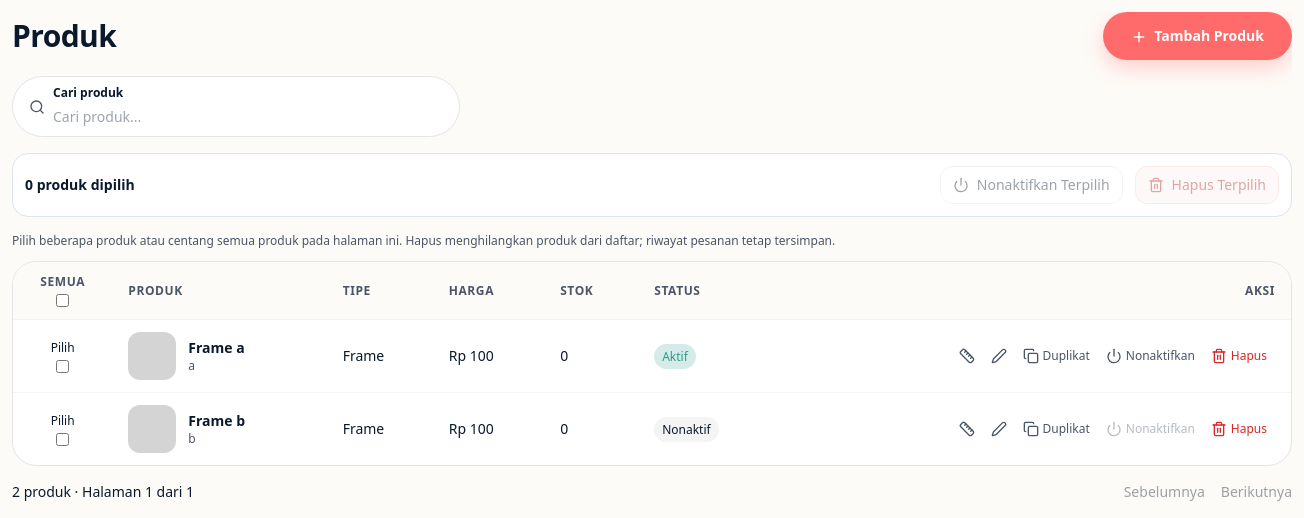
it: row actions distinguish deactivation from deletion, including inactive products
expect the button with test id "deactivate-b" is disabled: met, box left=1098, top=413, right=1203, bottom=445
expect the button with test id "delete-b" is enabled: met, box left=1203, top=413, right=1275, bottom=445
Click the button with test id "deactivate-a" at (1150, 356), box left=1098, top=340, right=1203, bottom=372
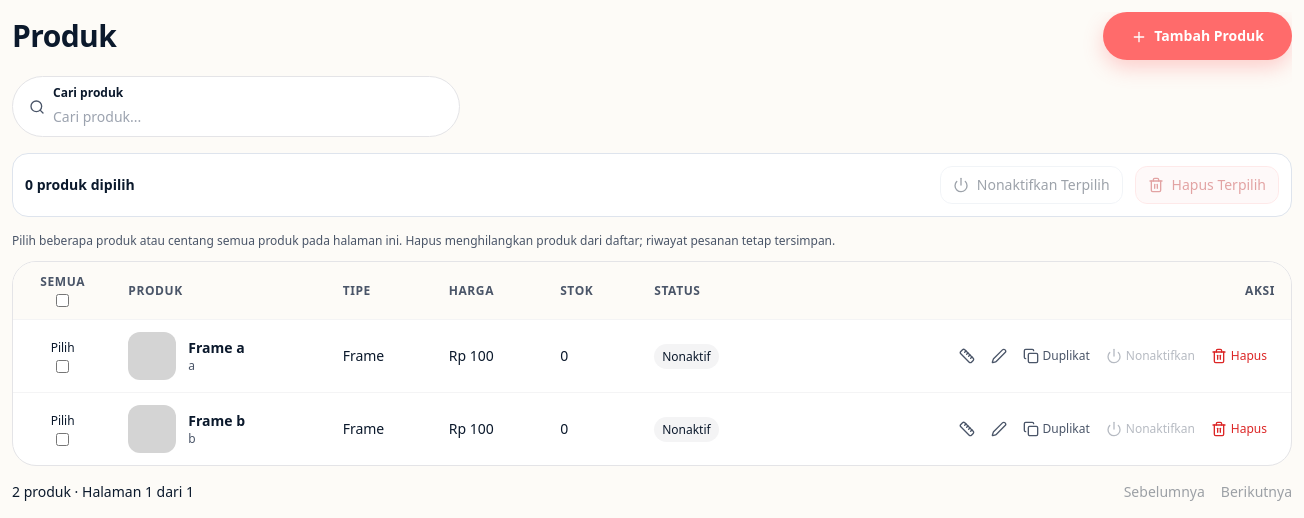
expect the row with test id "product-row-a" is shown: met, box left=13, top=320, right=1291, bottom=392
expect the button with test id "deactivate-a" is disabled: met, box left=1098, top=340, right=1203, bottom=372
Click the button with test id "delete-b" at (1239, 429), box left=1203, top=413, right=1275, bottom=445
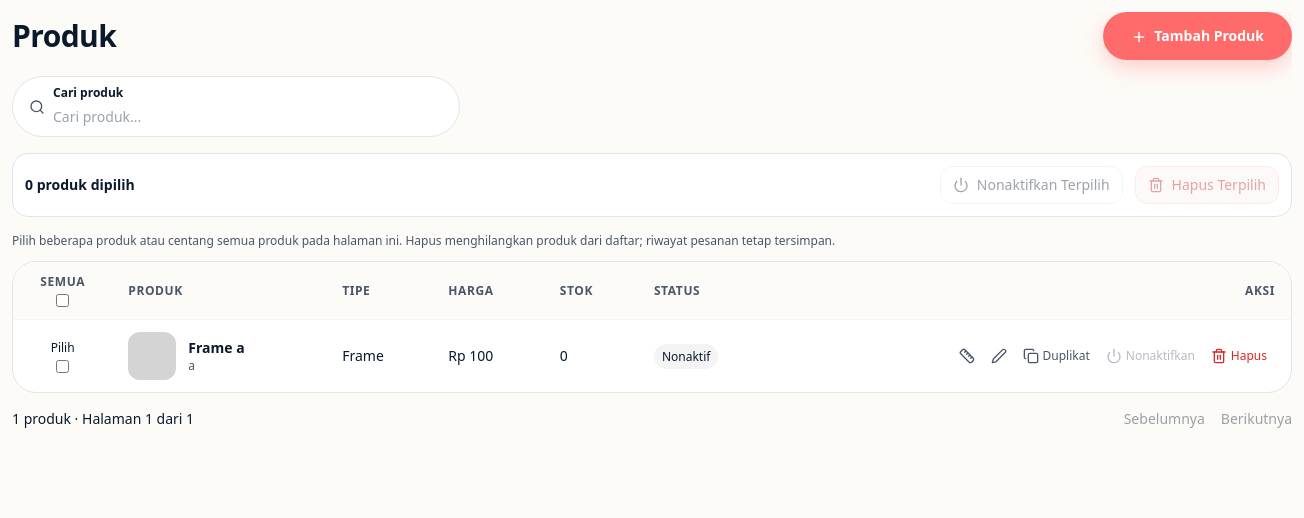
expect the row with test id "product-row-a" is shown: met, box left=13, top=320, right=1291, bottom=392
expect the row with test id "product-row-b" is gone: met
